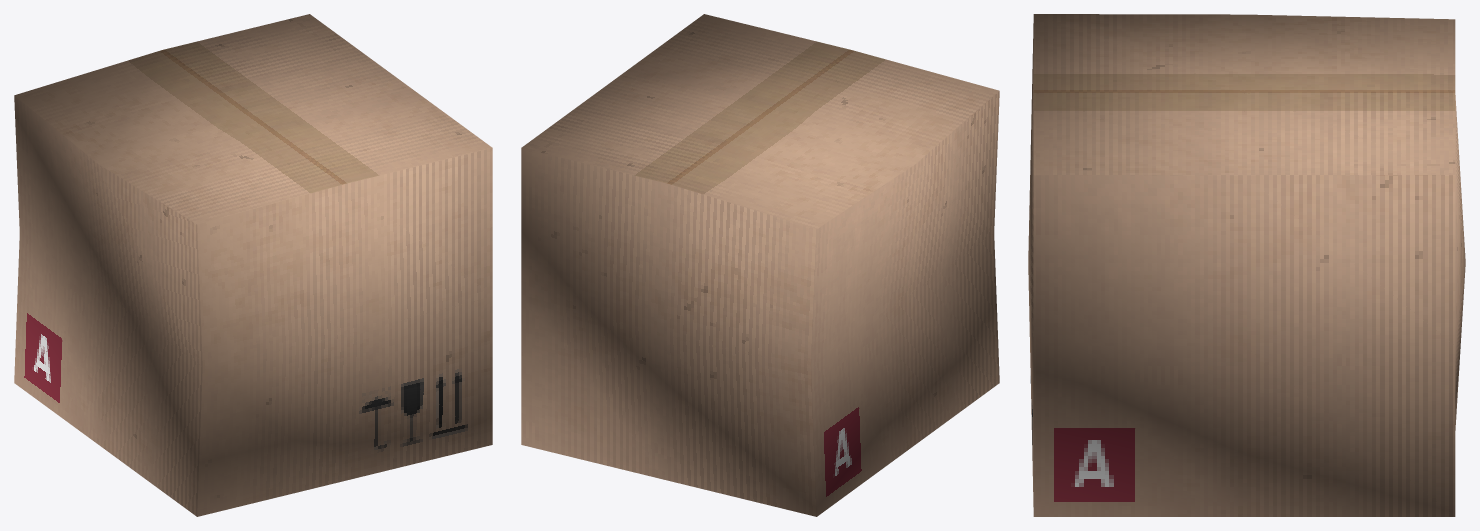
File: Karton4.gltf
3 renders of one model, left to right at view 1: azimuth 30°, elevation 25°; view 2: azimuth 150°, elevation 25°; view 3: azimuth 270°, elevation 25°, orthographic. The views are drawn at different scales.
Parts seen in each view (by area): view 1: Karton_4; view 2: Karton_4; view 3: Karton_4.
Boxes of the visible parts, box(x1,y1,x2,y2) form: Karton_4: box(14, 14, 492, 516); Karton_4: box(521, 14, 999, 516); Karton_4: box(1028, 14, 1465, 516).
Bounding box in the file's own units: 0.4393 × 0.411 × 0.4764.
Materials: 1 (1 with a texture image).
